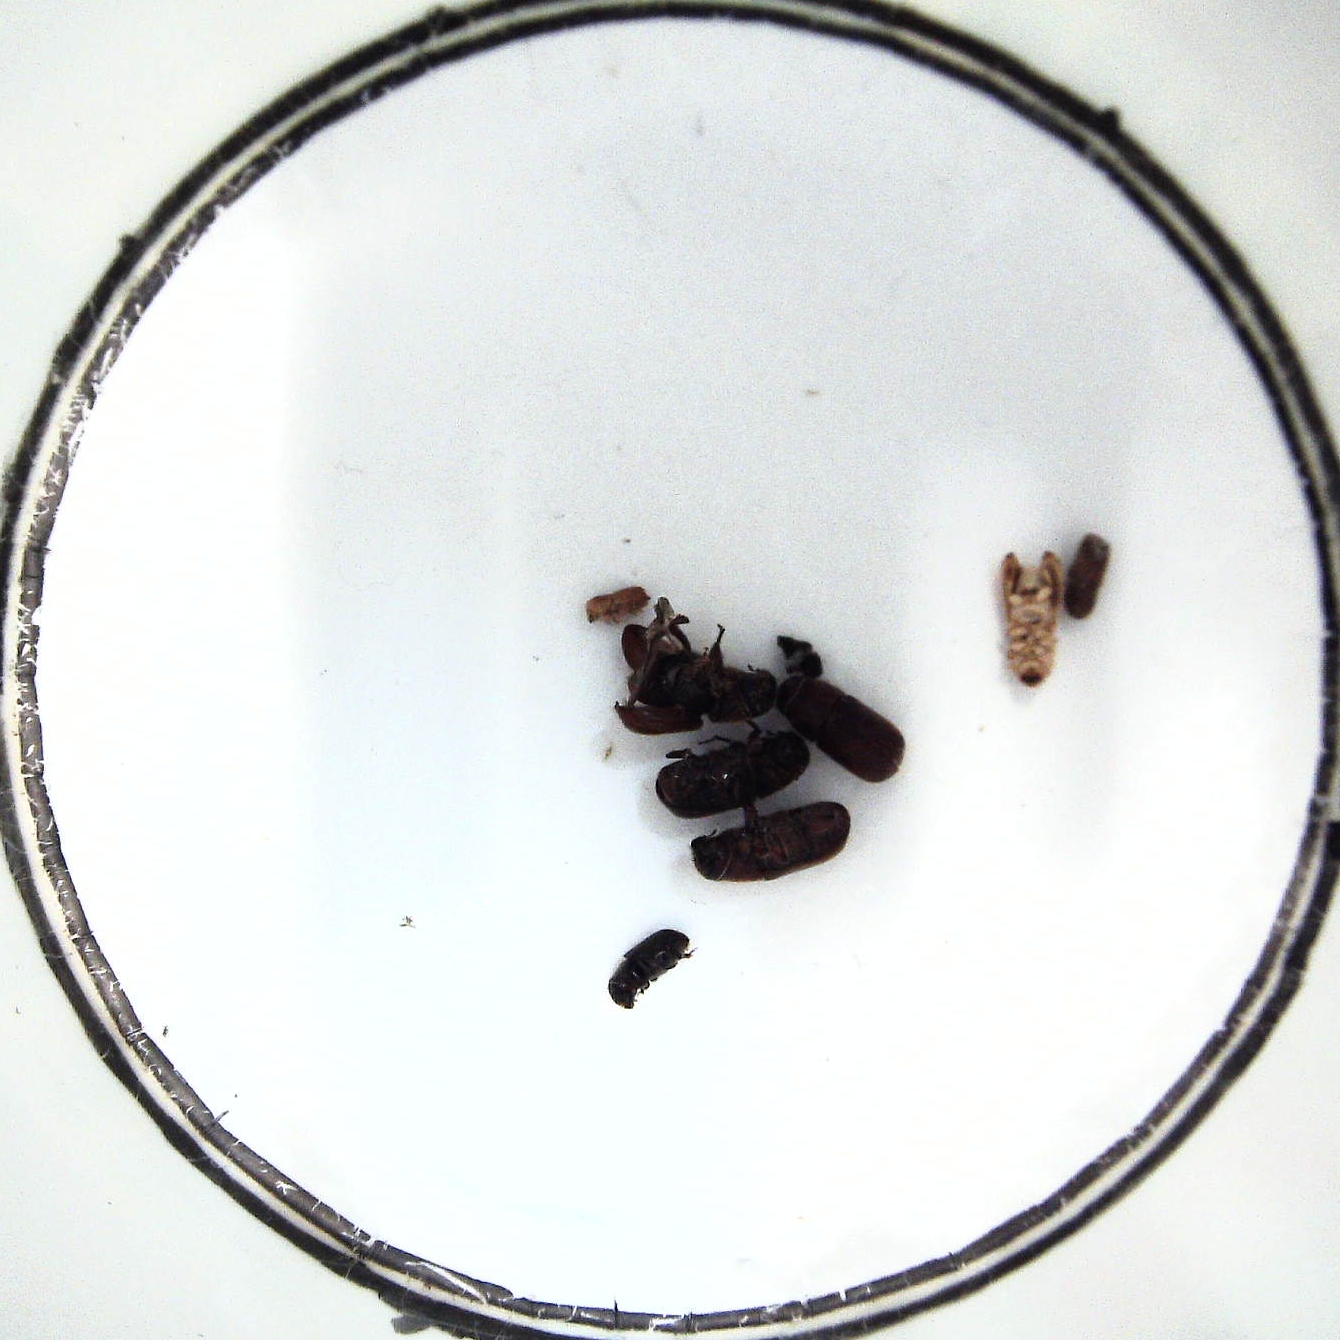Boerner: (1003, 549, 1066, 688)
Leconte: (616, 598, 780, 733), (688, 801, 849, 888), (654, 733, 811, 817), (784, 679, 906, 787)
Linnaeus: (1066, 529, 1113, 625)
acuminatus: (585, 583, 649, 625)
armandi: (607, 929, 693, 1014)
coleoptera: (776, 627, 825, 676)
